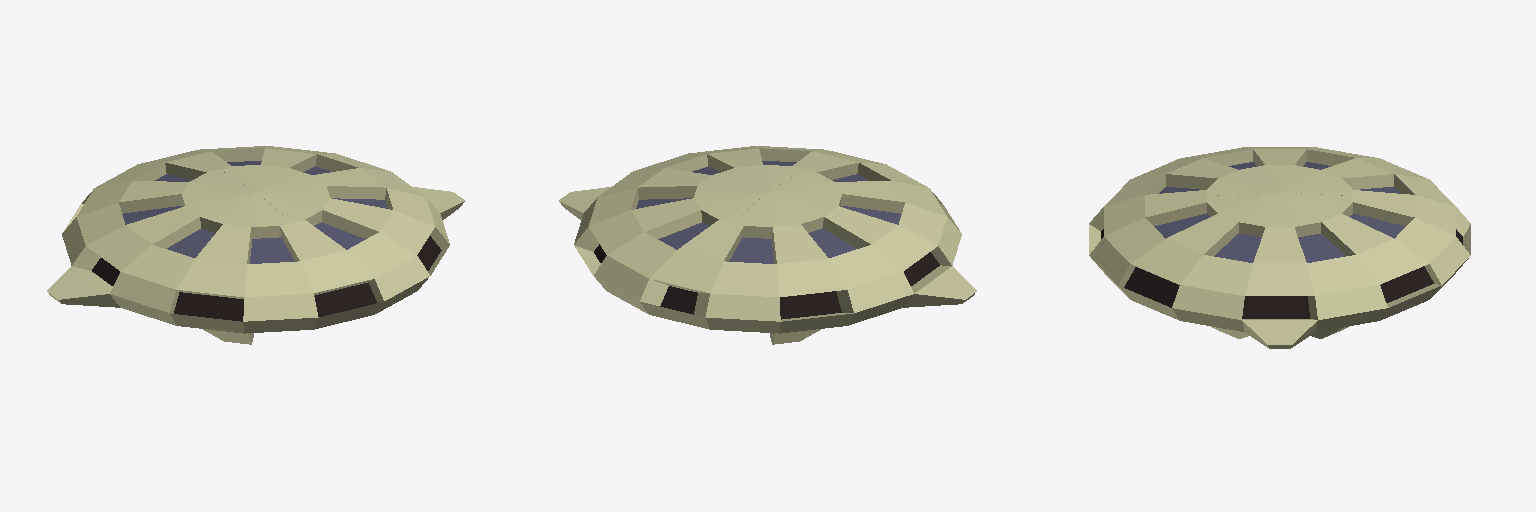
3 views of the same model, side by side, from view 1: azimuth 30°, elevation 25°; view 2: azimuth 150°, elevation 25°; view 3: azimuth 270°, elevation 25° (orthographic).
Parts seen in each view (by area): view 1: MotherShip; view 2: MotherShip; view 3: MotherShip.
Boxes of the visible parts, x1=… form: MotherShip: x1=47, y1=146, x2=464, y2=344; MotherShip: x1=559, y1=146, x2=976, y2=344; MotherShip: x1=1089, y1=147, x2=1470, y2=348.
Bounding box in the file's own units: 14.89 × 4.44 × 12.1.
Materials: 1 (1 with a texture image).